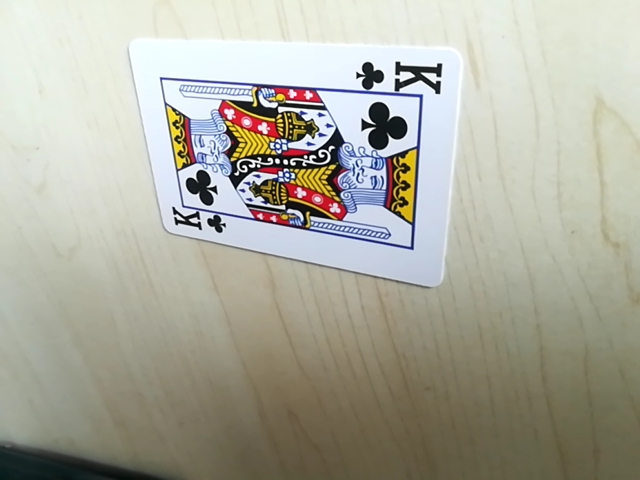mh k: (357, 55, 448, 96), (163, 207, 228, 237)
